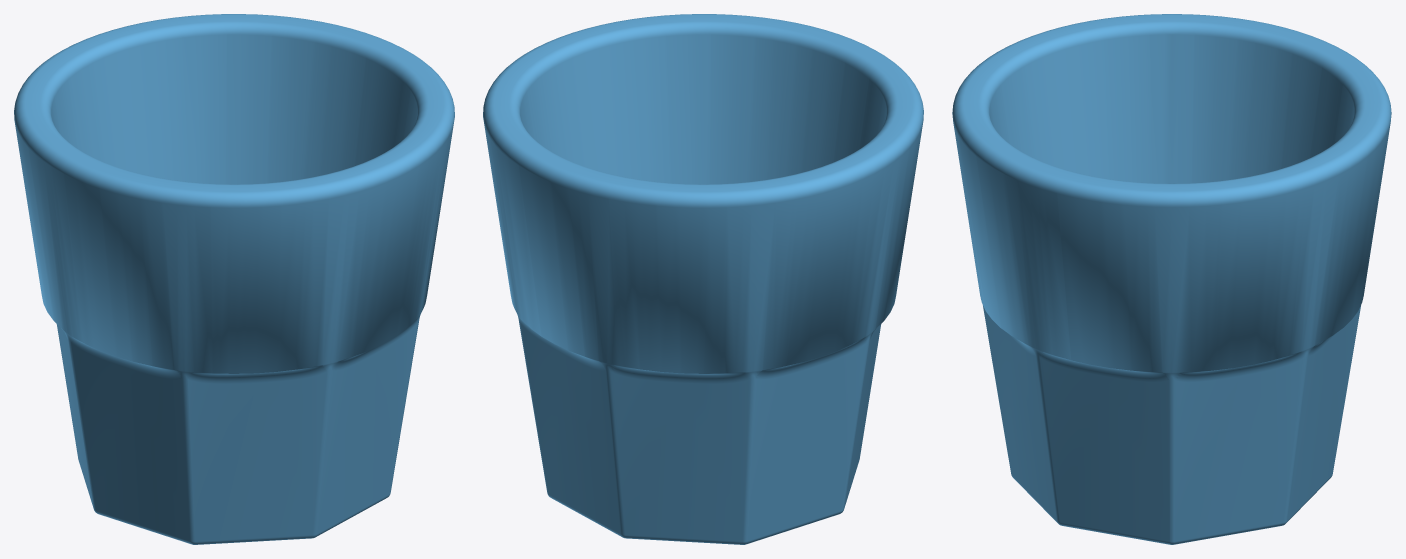
Rendered from Glass.fbx.
3 views of the same model, side by side, from view 1: azimuth 30°, elevation 25°; view 2: azimuth 150°, elevation 25°; view 3: azimuth 270°, elevation 25° (orthographic).
Parts seen in each view (by area): view 1: node_id30; view 2: node_id30; view 3: node_id30.
Part boxes in pixels (x1,y1,x2,y2): node_id30: (14, 14, 454, 544); node_id30: (483, 14, 923, 544); node_id30: (952, 14, 1391, 544).
Bounding box in the file's own units: 3.37 × 3.19 × 3.37.
1 material, 1 textured.
